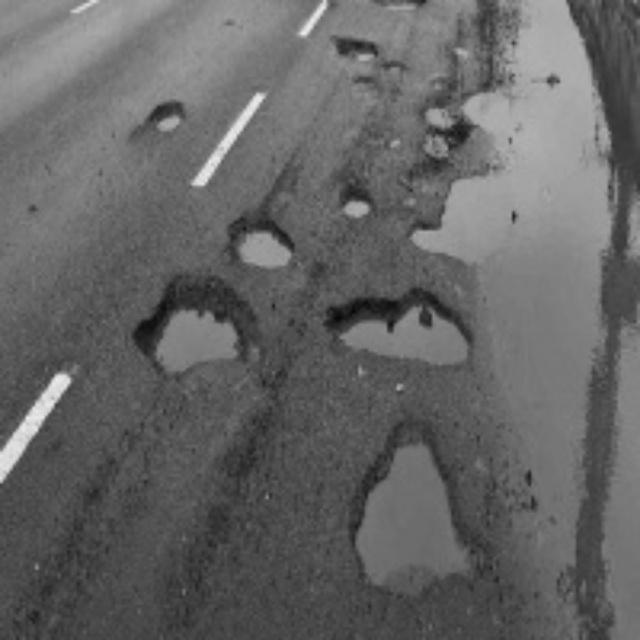Pothole: (356, 420, 468, 614), (123, 275, 273, 382), (332, 280, 481, 378), (221, 216, 306, 278), (331, 29, 387, 81), (146, 100, 192, 144), (337, 186, 372, 222), (417, 92, 451, 122), (409, 136, 451, 157)
Surface Erosion: (444, 0, 640, 640)
